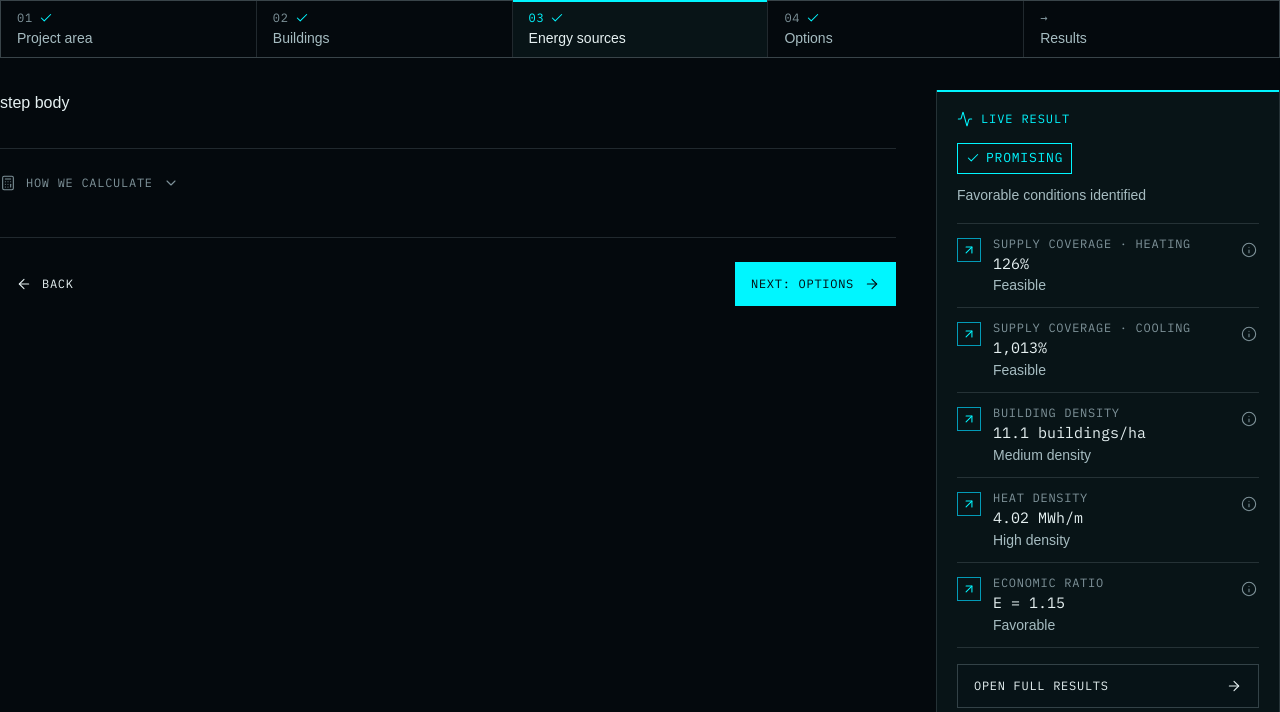
Scenario: StepLayout › frames a step with stepper, live result, a collapsed How we calculate and the footer
The width and height of the screenshot is (1280, 712).
Expected: the text "step body" is shown, [0, 94, 69, 111]
Expected: the navigation bar named "Quick Check steps" is shown, [0, 0, 1279, 58]
Click the button "How we calculate". click: {"x": 89, "y": 183}
box: [0, 161, 179, 205]
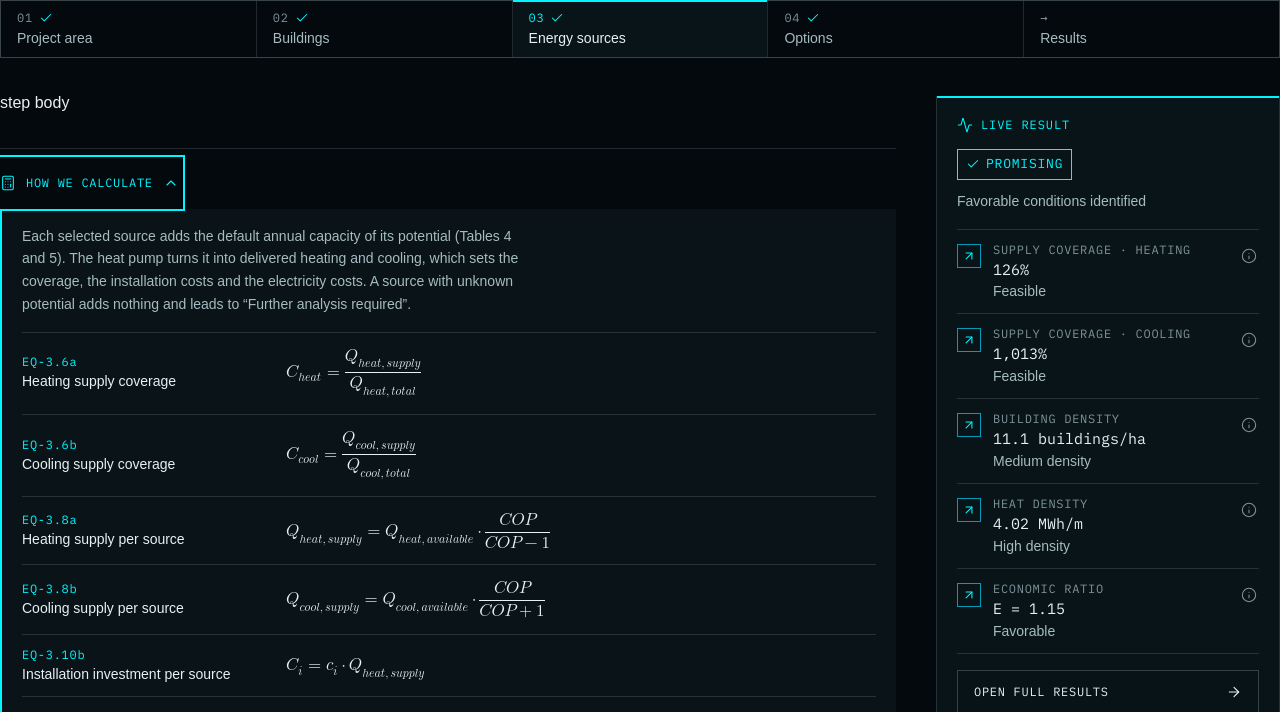
Now the text "Each selected source adds the default annual capacity of its potential (Tables 4 and 5). The heat pump turns it into del" is shown, box [22, 228, 518, 312]
